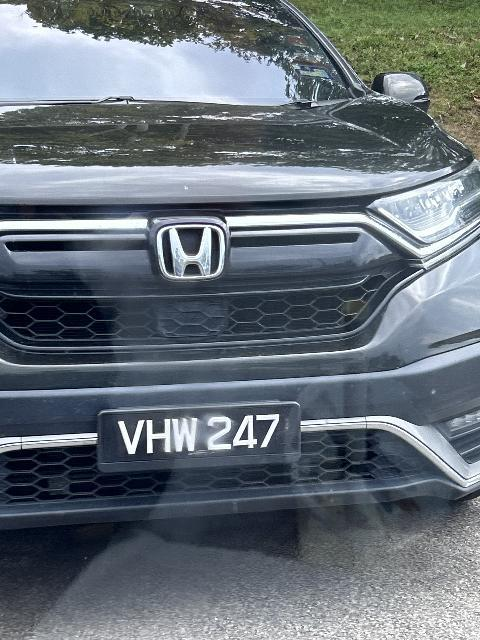License_Plate: (93, 397, 309, 479)
VHW247: (93, 397, 309, 479)
car: (1, 1, 480, 527)
